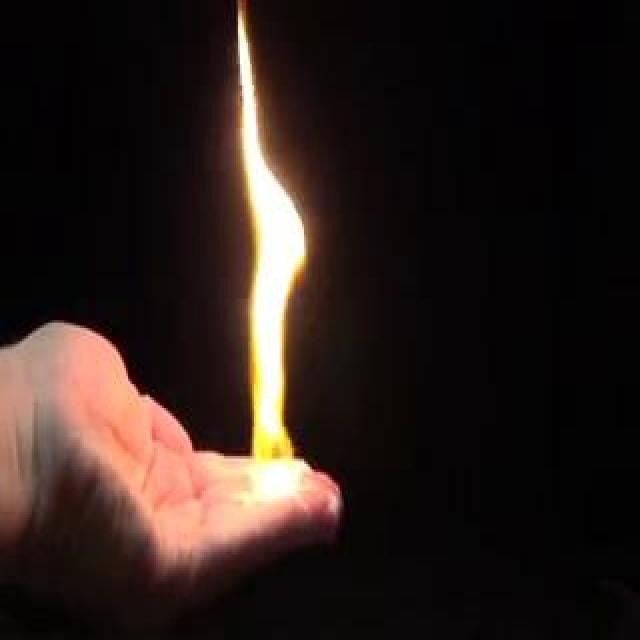Fire: (74, 344, 266, 370)
